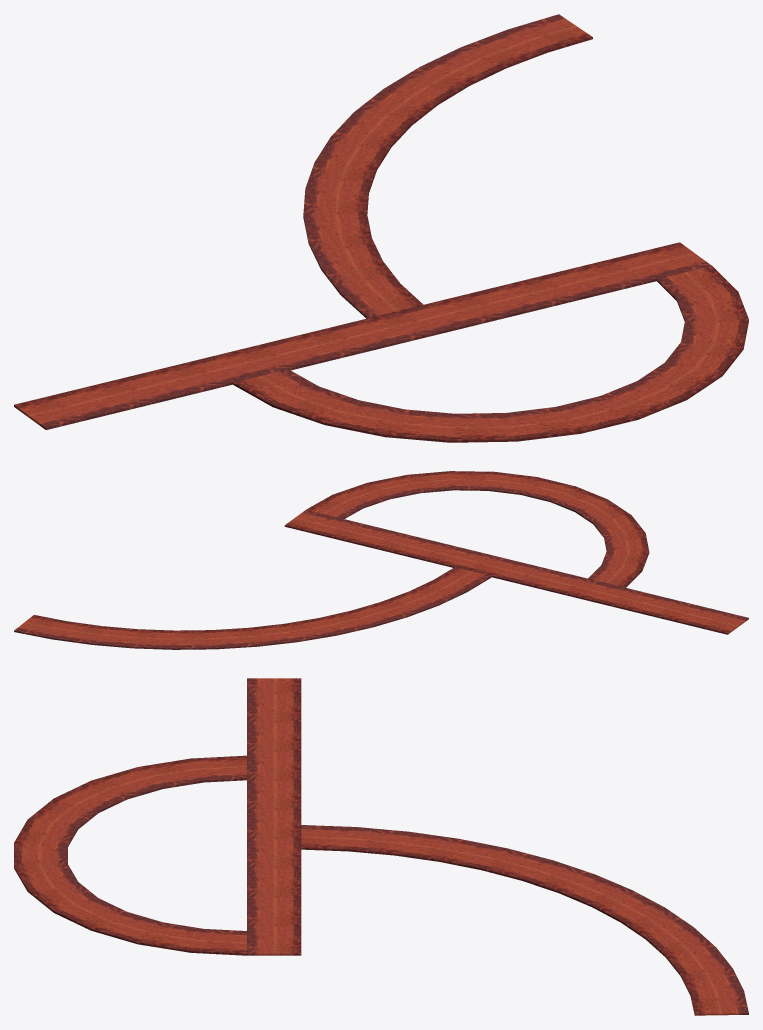
File: road_elements.FBX
3 renders of one model, top to bottom at view 1: azimuth 30°, elevation 25°; view 2: azimuth 150°, elevation 25°; view 3: azimuth 270°, elevation 25°, orthographic. The views are drawn at different scales.
Visible parts, largest first — view 1: Line002, Line003, Line004; view 2: Line004, Line002, Line003; view 3: Line004, Line003, Line002.
Part boxes in pixels (x1=…): Line002: x1=14, y1=242, x2=711, y2=429; Line003: x1=232, y1=266, x2=748, y2=442; Line004: x1=303, y1=14, x2=592, y2=318; Line004: x1=14, y1=567, x2=491, y2=649; Line002: x1=284, y1=510, x2=748, y2=634; Line003: x1=306, y1=471, x2=649, y2=587; Line004: x1=301, y1=825, x2=748, y2=1015; Line003: x1=14, y1=755, x2=246, y2=955; Line002: x1=247, y1=678, x2=301, y2=955.
Size of the model in its own units: 24.59 by 0.06 by 22.76.
1 material, 1 textured.
